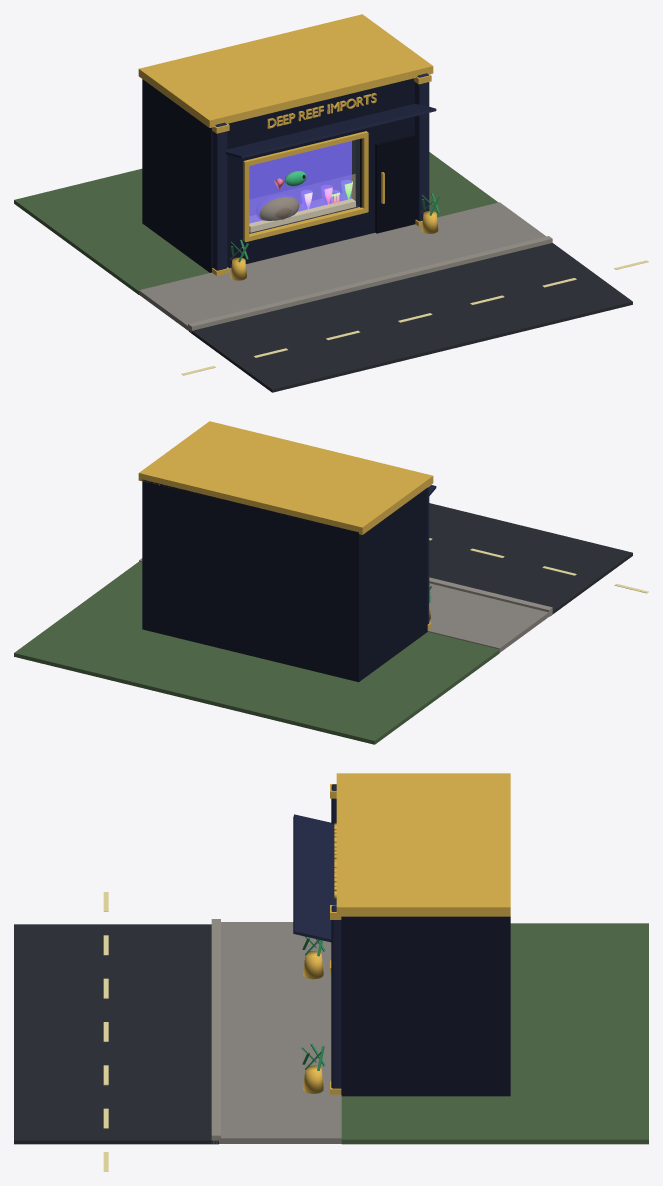
Rendered from store_deep_reef.glb.
3 renders of one model, top to bottom at view 1: azimuth 30°, elevation 25°; view 2: azimuth 150°, elevation 25°; view 3: azimuth 270°, elevation 25°, orthographic. The views are drawn at different scales.
Visible parts, largest first — view 1: Cube.001, Cube.017, Cube, Cube.010, Cube.011, Cube.013, Cube.028, Cube.029, Cube.032, Cube.015, Cube.009, Cube.034 (+8 smaller); view 2: Cube.012, Cube.010, Cube.017, Cube.001, Cube.013, Cube, Cube.009; view 3: Cube.001, Cube.010, Cube.014, Cube.017, Cube, Cube.034, Cube.011, Cube.009, Cube.012, Cube.021.
Part boxes in pixels (x1,y1,x2,y2): Cube.001: (189, 243, 632, 392); Cube.017: (138, 14, 433, 127); Cube: (139, 202, 546, 330); Cube.010: (14, 152, 498, 294); Cube.011: (206, 78, 414, 272); Cube.013: (144, 80, 210, 272); Cube.028: (250, 139, 359, 232); Cube.029: (249, 141, 351, 223); Cube.032: (375, 134, 416, 233); Cube.015: (250, 140, 355, 198); Cube.009: (188, 236, 552, 332); Cube.034: (226, 103, 436, 158); Cube.012: (142, 479, 362, 682); Cube.010: (14, 561, 499, 744); Cube.017: (138, 421, 433, 534); Cube.001: (429, 503, 632, 616); Cube.013: (361, 487, 427, 679); Cube: (139, 558, 548, 652); Cube.009: (429, 577, 552, 616); Cube.001: (14, 924, 218, 1144); Cube.010: (341, 923, 648, 1144); Cube.014: (341, 916, 505, 1096); Cube.017: (336, 773, 510, 916); Cube: (219, 922, 341, 1143); Cube.034: (293, 814, 336, 942); Cube.011: (341, 916, 354, 1096); Cube.009: (211, 919, 220, 1143); Cube.012: (500, 916, 510, 1096); Cube.021: (331, 905, 341, 1088).
Size of the model in its own units: 12.9 by 4.22 by 12.4.
